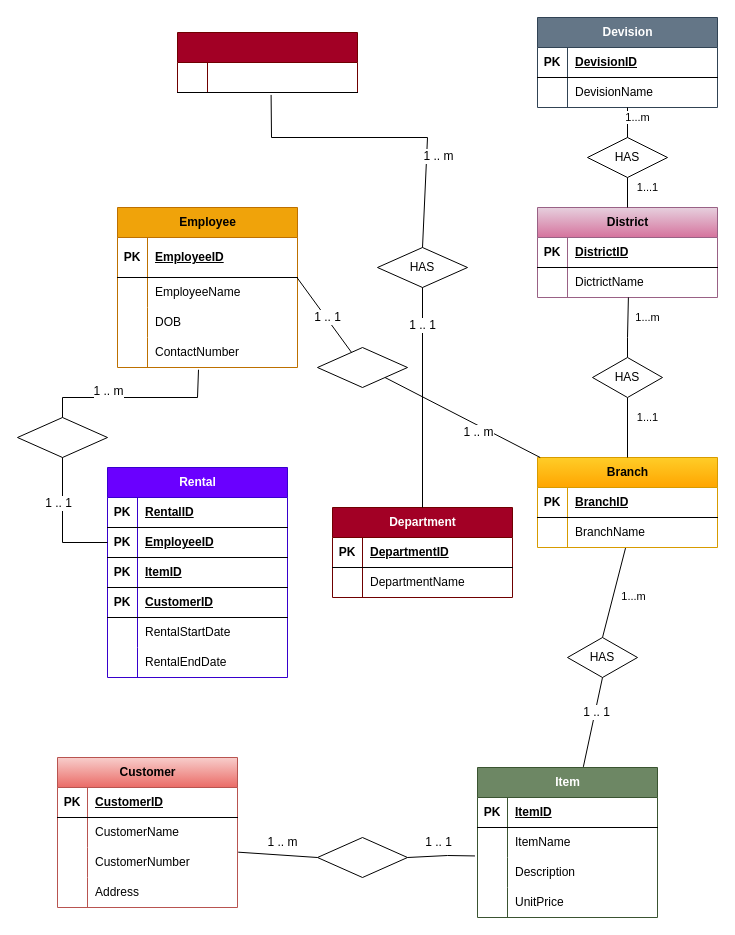
Some shapes in this 735 by 935 pixel diagram are drawn without their labels. Each missing label, with the box of its shape:
BUYS: (316, 836, 408, 878)
Company: (176, 32, 358, 92)
RENTS: (16, 416, 108, 458)
WORKS: (316, 346, 408, 388)
